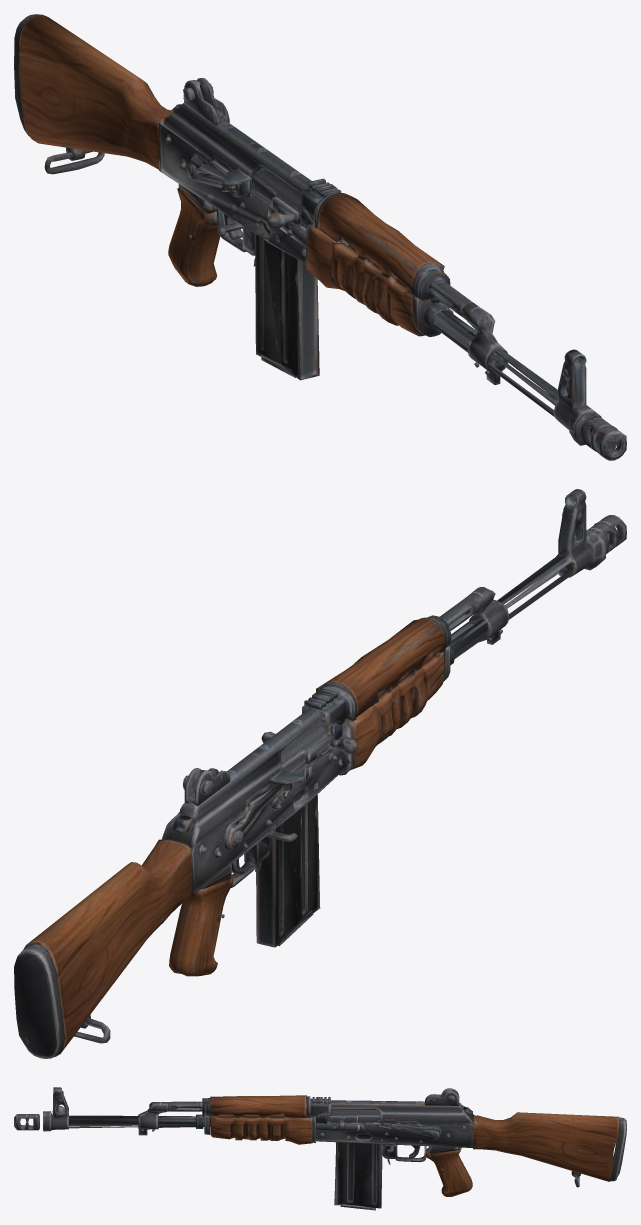
File: battle_rifle.glb
3 views of the same model, one above another, from view 1: azimuth 30°, elevation 25°; view 2: azimuth 150°, elevation 25°; view 3: azimuth 270°, elevation 25° (orthographic). The views are drawn at different scales.
Visible parts, largest first — view 1: w_battle_rifle; view 2: w_battle_rifle; view 3: w_battle_rifle.
Part boxes in pixels (<box>): w_battle_rifle: <box>14,14,626,460</box>; w_battle_rifle: <box>14,489,626,1058</box>; w_battle_rifle: <box>14,1087,626,1210</box>.
Bounding box in the file's own units: 0.0762 × 0.1981 × 0.92.
1 material, 1 textured.
